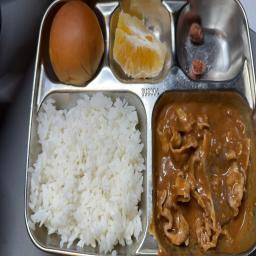100_beef: (155, 94, 254, 252)
100_bread: (46, 3, 103, 80)
100_orange: (114, 6, 168, 83)
100_rice: (38, 94, 143, 245)
25_nuts: (177, 10, 240, 81)
